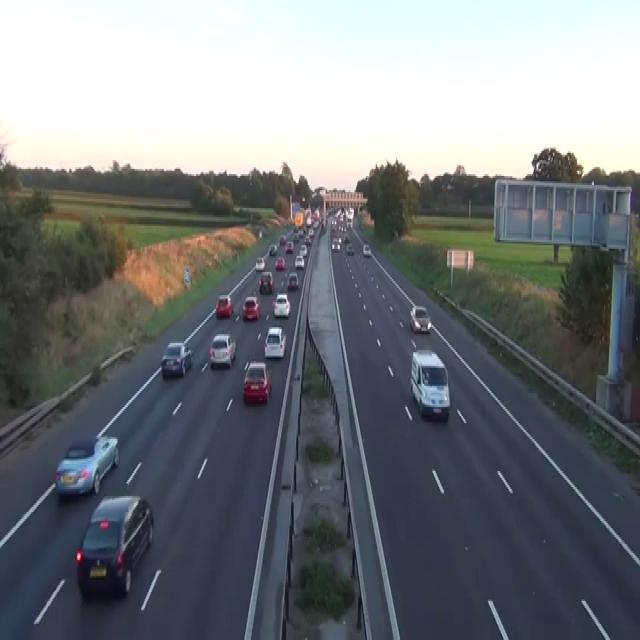Car: (75, 494, 154, 598), (54, 434, 119, 498), (410, 348, 450, 422), (243, 359, 271, 404), (160, 341, 193, 377), (209, 332, 236, 368), (264, 326, 286, 358), (409, 304, 431, 332), (272, 292, 290, 318), (242, 295, 259, 320), (215, 294, 233, 316), (258, 270, 273, 294), (287, 272, 298, 290), (274, 256, 285, 270), (255, 256, 265, 270), (294, 254, 304, 268), (331, 237, 340, 250), (362, 244, 371, 256), (346, 242, 354, 254), (269, 244, 277, 256), (285, 240, 293, 252), (299, 244, 307, 256), (279, 235, 286, 245), (304, 235, 311, 245), (293, 231, 299, 242), (343, 233, 349, 243), (331, 217, 337, 227), (313, 218, 319, 228), (314, 208, 319, 219), (306, 217, 312, 226), (346, 218, 351, 228), (308, 228, 314, 236), (298, 228, 304, 236), (338, 237, 342, 246), (293, 226, 298, 233), (258, 230, 262, 238)
